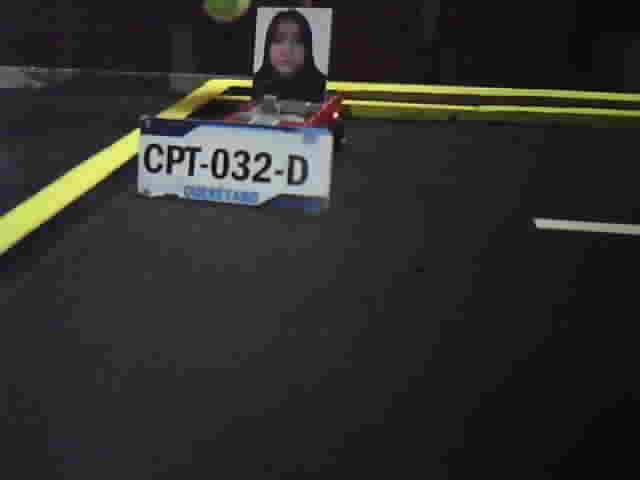PLACA: (135, 114, 341, 224)
ROSTRO: (256, 9, 327, 101)
